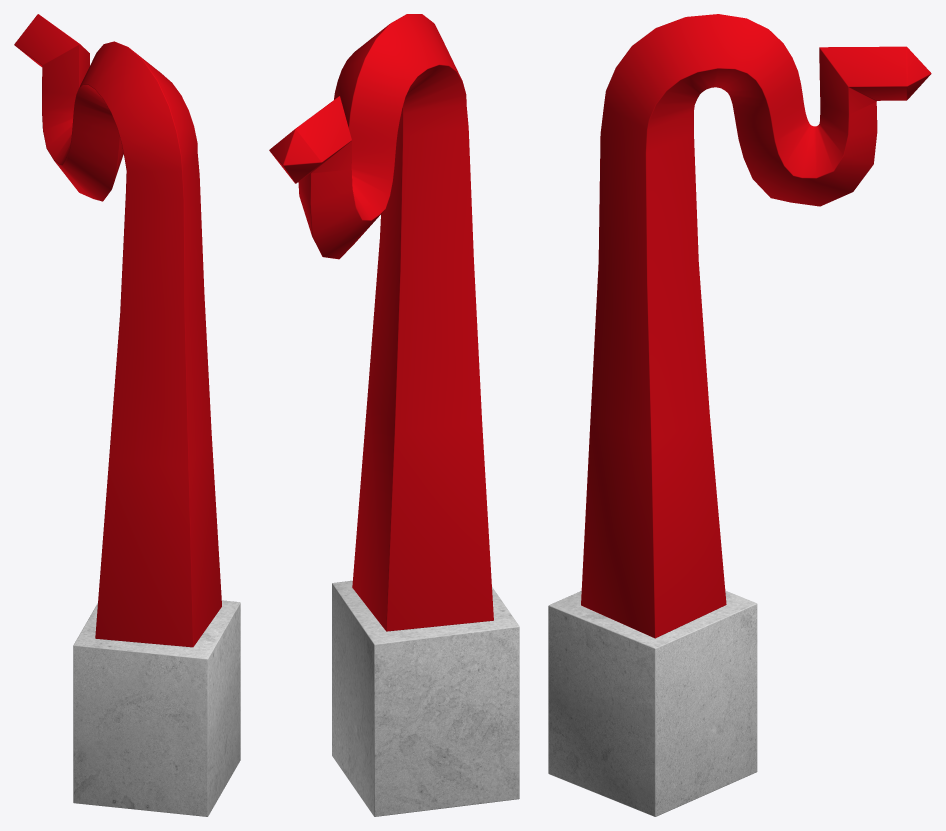
Rendered from 2020_Escultura_Roja_Fime.fbx.
The picture shows the model from 3 angles, left to right: view 1: azimuth 30°, elevation 25°; view 2: azimuth 150°, elevation 25°; view 3: azimuth 270°, elevation 25°; orthographic projection. The views are drawn at different scales.
Parts seen in each view (by area): view 1: 2020_Escultura_Roja_Fime; view 2: 2020_Escultura_Roja_Fime; view 3: 2020_Escultura_Roja_Fime.
Boxes of the visible parts, box(x1,y1,x2,y2) form: 2020_Escultura_Roja_Fime: box(14, 14, 240, 816); 2020_Escultura_Roja_Fime: box(269, 14, 519, 816); 2020_Escultura_Roja_Fime: box(548, 14, 931, 816).
Size of the model in its own units: 183 by 99.66 by 400.
